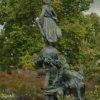Statue: (31, 3, 78, 88)
